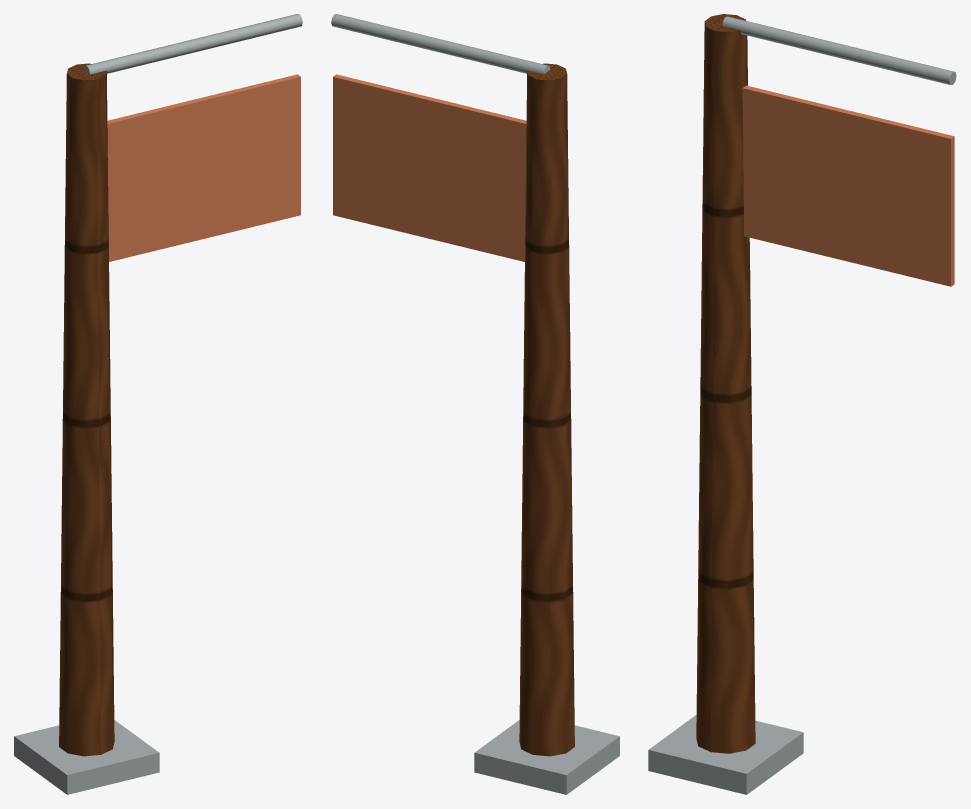
The model's file is roadside-survival-stops-service-signal-pole-fd7f5b55__23541.glb.
3 views of the same model, side by side, from view 1: azimuth 30°, elevation 25°; view 2: azimuth 150°, elevation 25°; view 3: azimuth 330°, elevation 25° (orthographic). The views are drawn at different scales.
Parts seen in each view (by area): view 1: service-signal-pole; view 2: service-signal-pole; view 3: service-signal-pole.
Part boxes in pixels (box(x1,y1,x2,y2)): service-signal-pole: box(14, 14, 302, 794); service-signal-pole: box(331, 14, 619, 794); service-signal-pole: box(648, 14, 956, 794).
Size of the model in its own units: 1.1 by 2.83 by 0.39.
3 materials, 1 textured.
